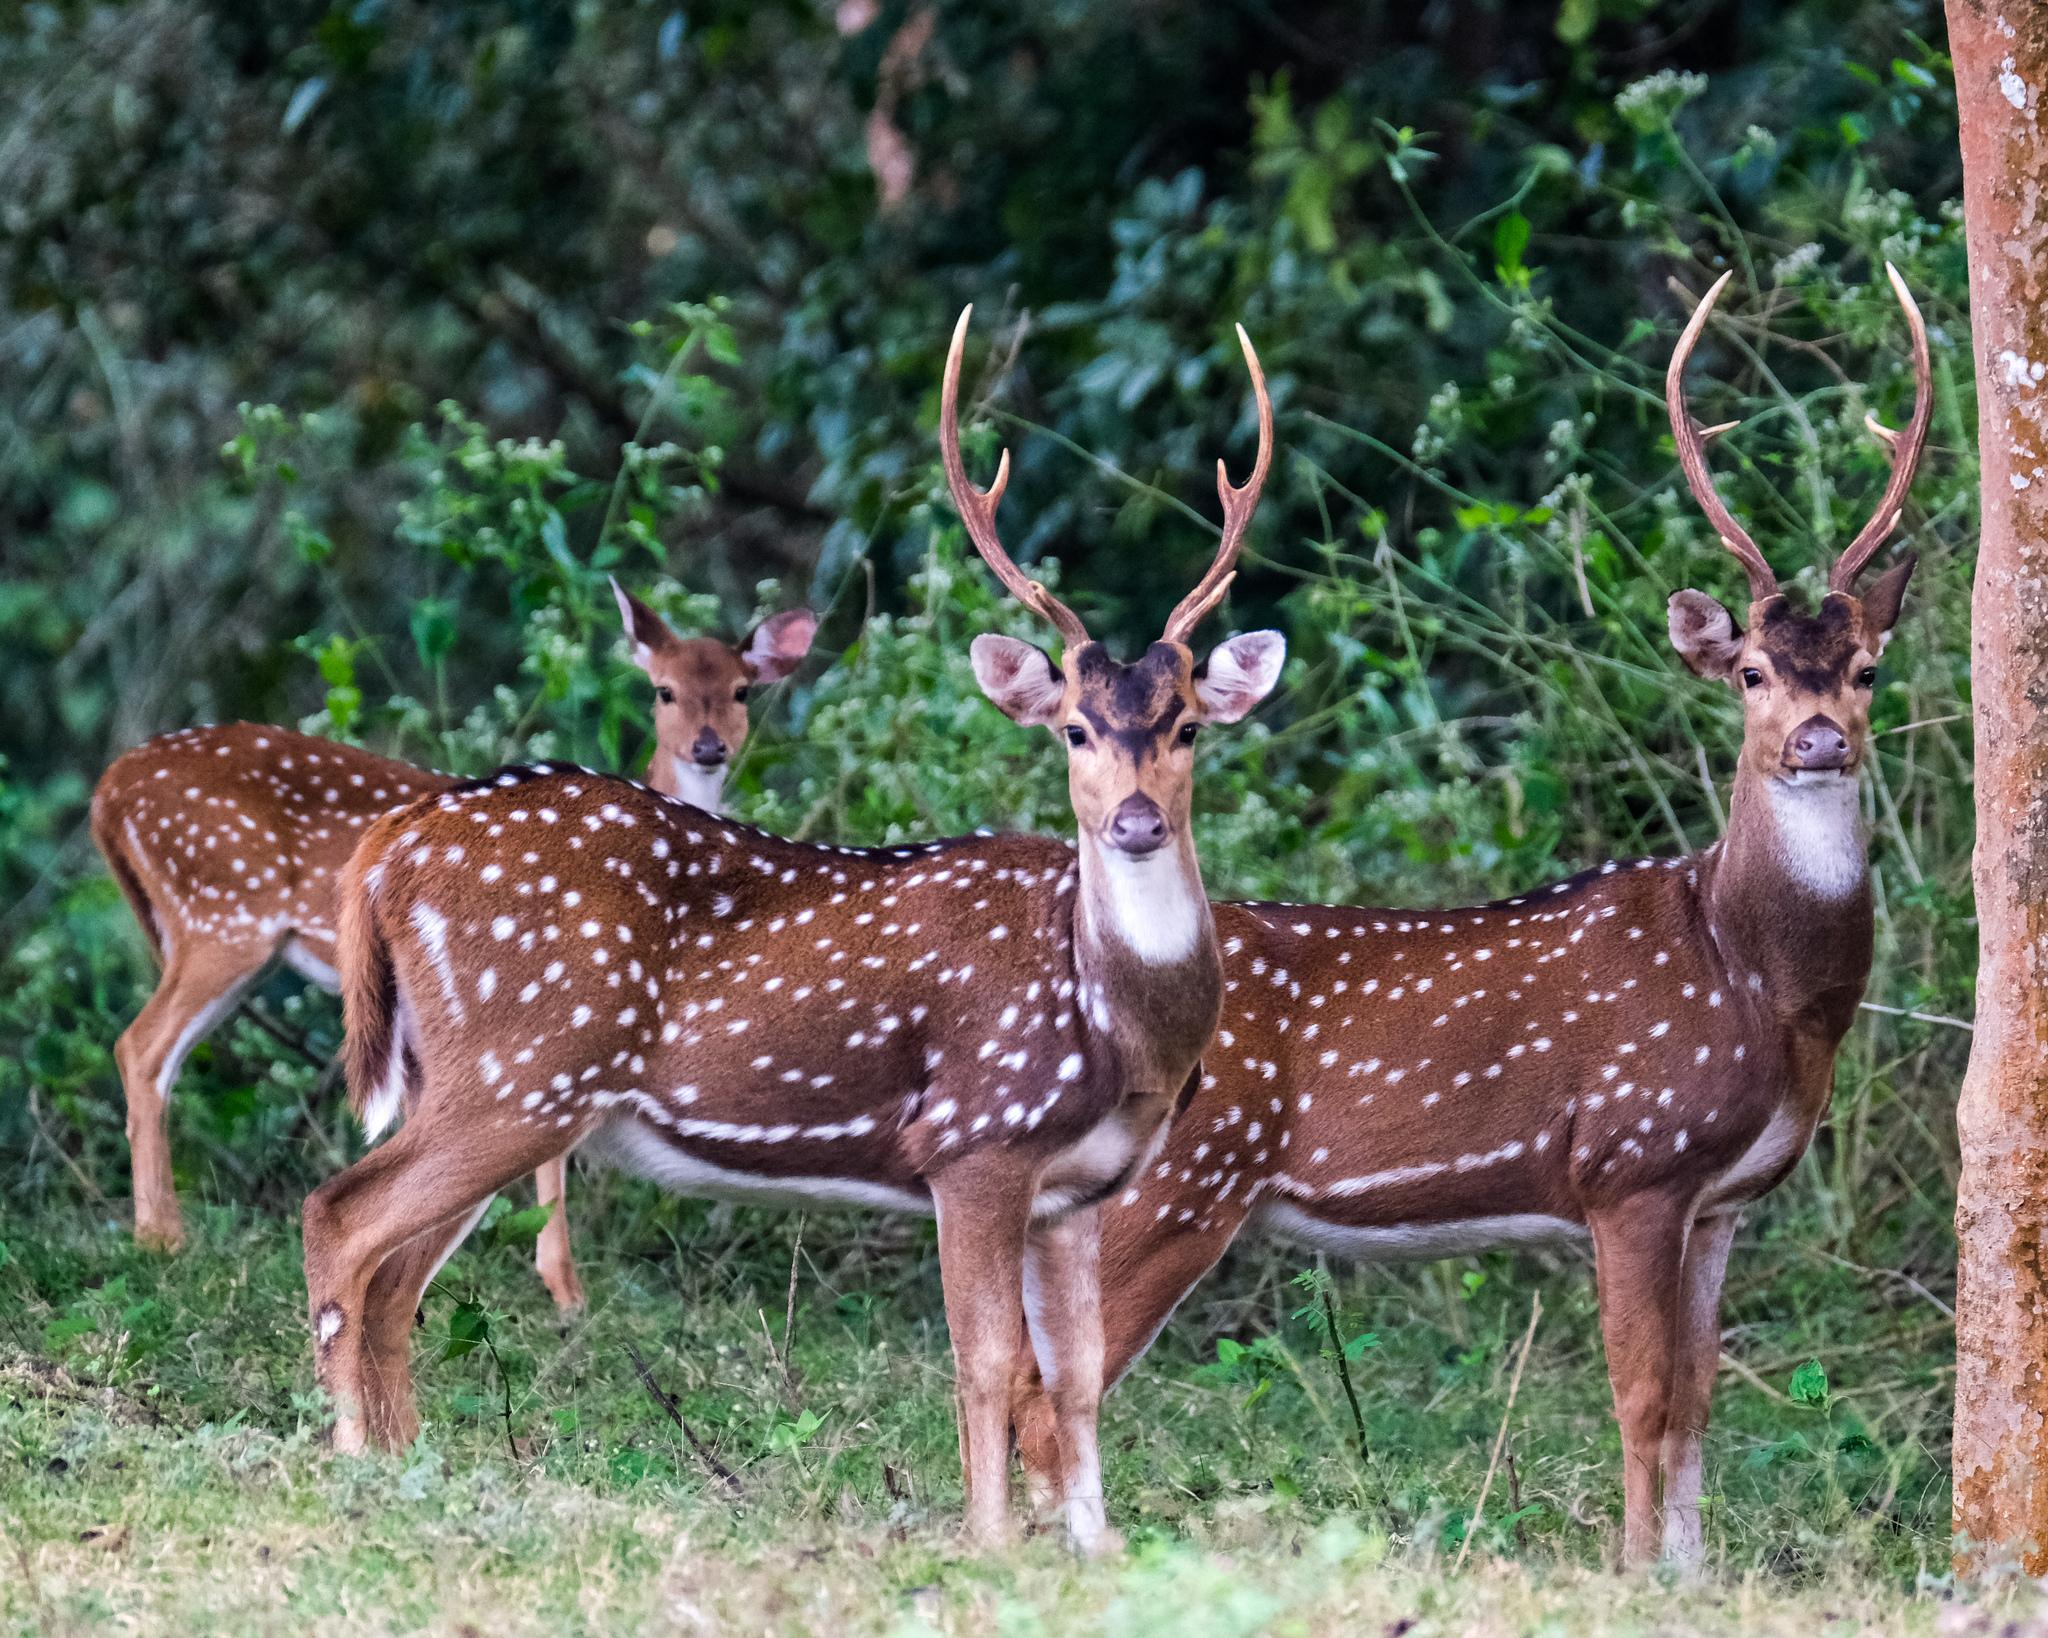Deer: (304, 309, 1284, 1544), (1102, 267, 1933, 1564)
